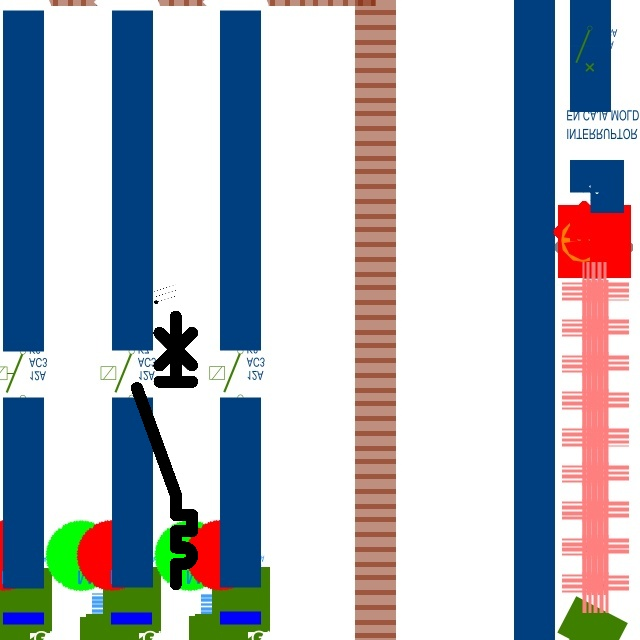interruptor_termomagnetico: (130, 309, 199, 590)
